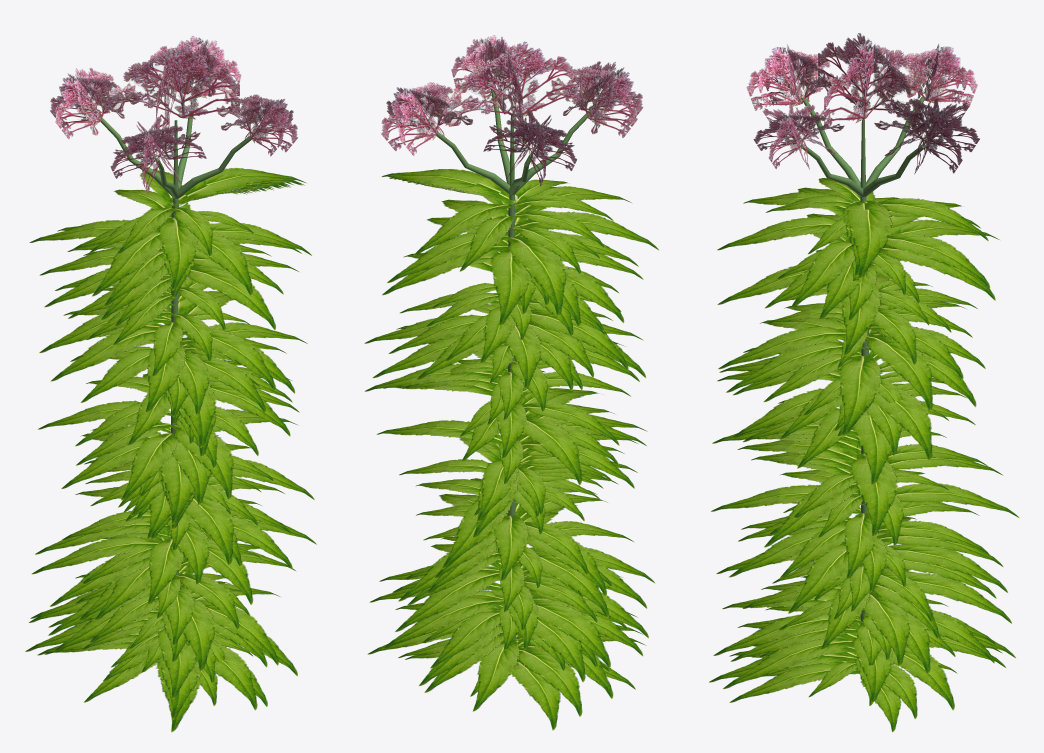
Rendered from Joe_Pie_Weed.glb.
3 views of the same model, side by side, from view 1: azimuth 30°, elevation 25°; view 2: azimuth 150°, elevation 25°; view 3: azimuth 270°, elevation 25° (orthographic). The views are drawn at different scales.
Visible parts, largest first — view 1: Joepieweed; view 2: Joepieweed; view 3: Joepieweed.
Boxes of the visible parts, x1,y1,x2,y2 form: Joepieweed: (25, 36, 316, 732); Joepieweed: (364, 35, 658, 730); Joepieweed: (709, 33, 1019, 732).
Size of the model in its own units: 2.18 by 4.76 by 2.17.
Materials: 2 (1 with a texture image).
